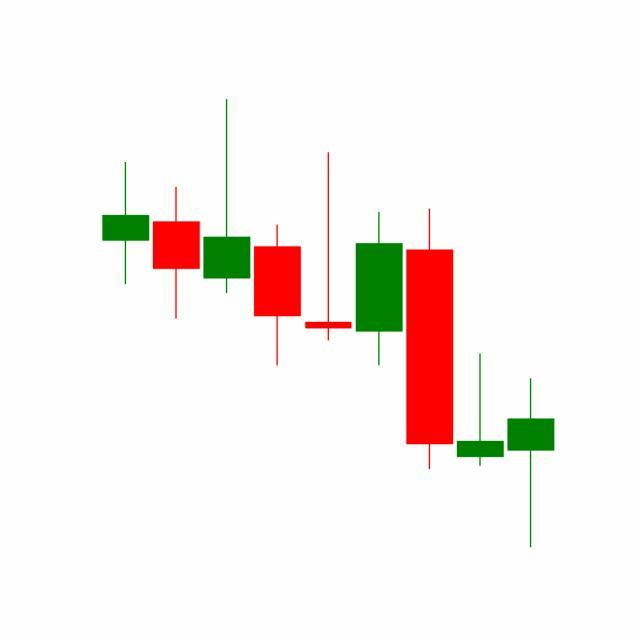Hikkake Pattern: (302, 148, 555, 549)
